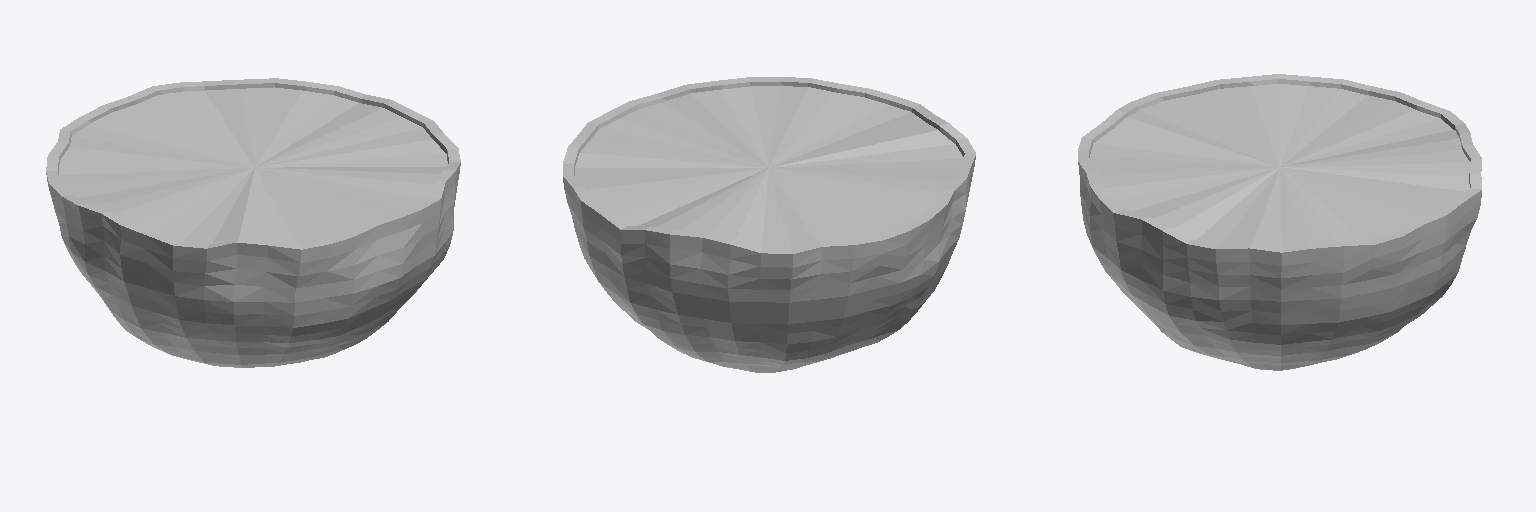
File: Animal_Cell.obj
3 renders of one model, left to right at view 1: azimuth 30°, elevation 25°; view 2: azimuth 150°, elevation 25°; view 3: azimuth 270°, elevation 25°, orthographic.
Visible parts, largest first — view 1: Plasma_Membrane Animal_Cell Cell, Animal_Cell Cell Cell_Fluid; view 2: Animal_Cell Cell Cell_Fluid, Plasma_Membrane Animal_Cell Cell; view 3: Animal_Cell Cell Cell_Fluid, Plasma_Membrane Animal_Cell Cell.
Part boxes in pixels (left/top/right/bottom): Plasma_Membrane Animal_Cell Cell: left=46, top=78, right=460, bottom=367; Animal_Cell Cell Cell_Fluid: left=59, top=87, right=447, bottom=244; Animal_Cell Cell Cell_Fluid: left=575, top=86, right=963, bottom=249; Plasma_Membrane Animal_Cell Cell: left=563, top=77, right=975, bottom=372; Animal_Cell Cell Cell_Fluid: left=1090, top=84, right=1469, bottom=247; Plasma_Membrane Animal_Cell Cell: left=1078, top=74, right=1481, bottom=370.
Bounding box in the file's own units: 202 × 105 × 198.